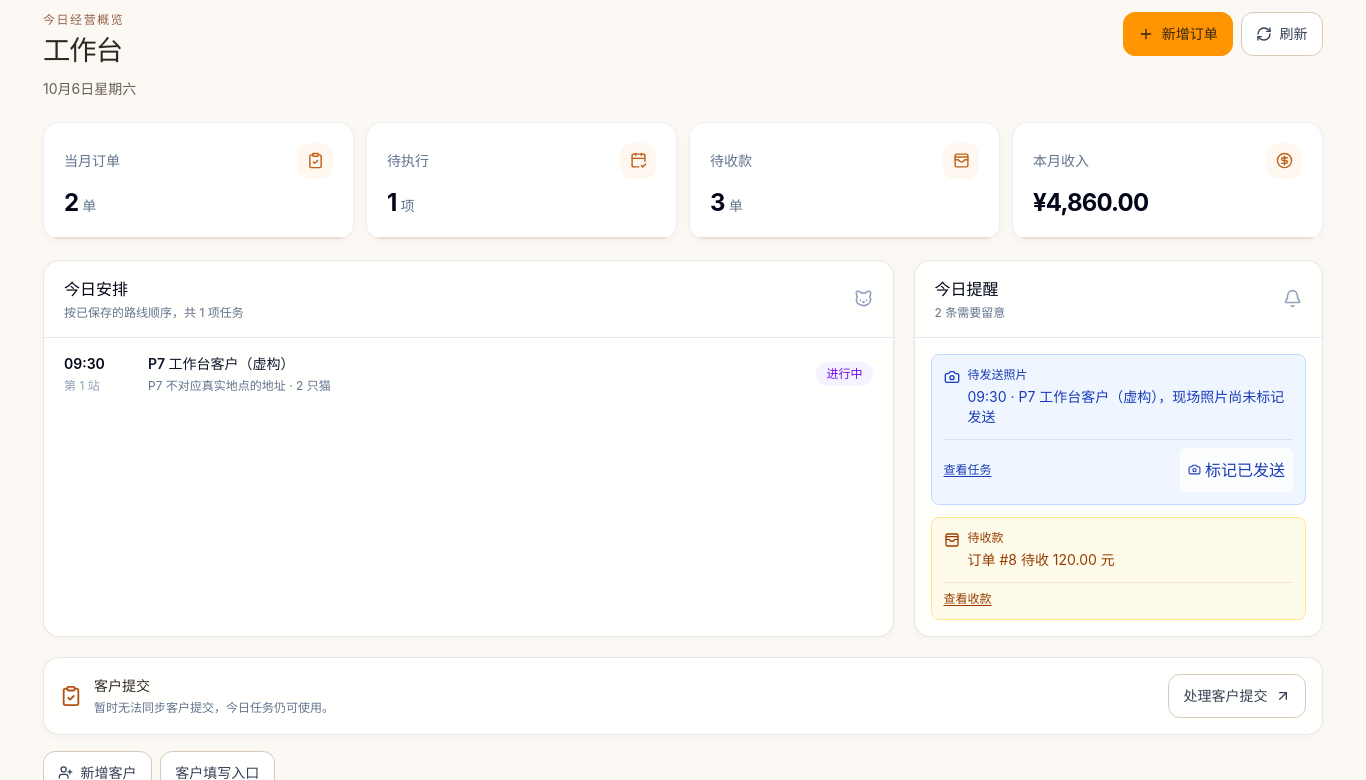
Test: confirms a photo delivery marker and refreshes the dashboard
Click the button "标记已发送" at (1236, 470), box x1=1180 y1=448 x2=1293 y2=492
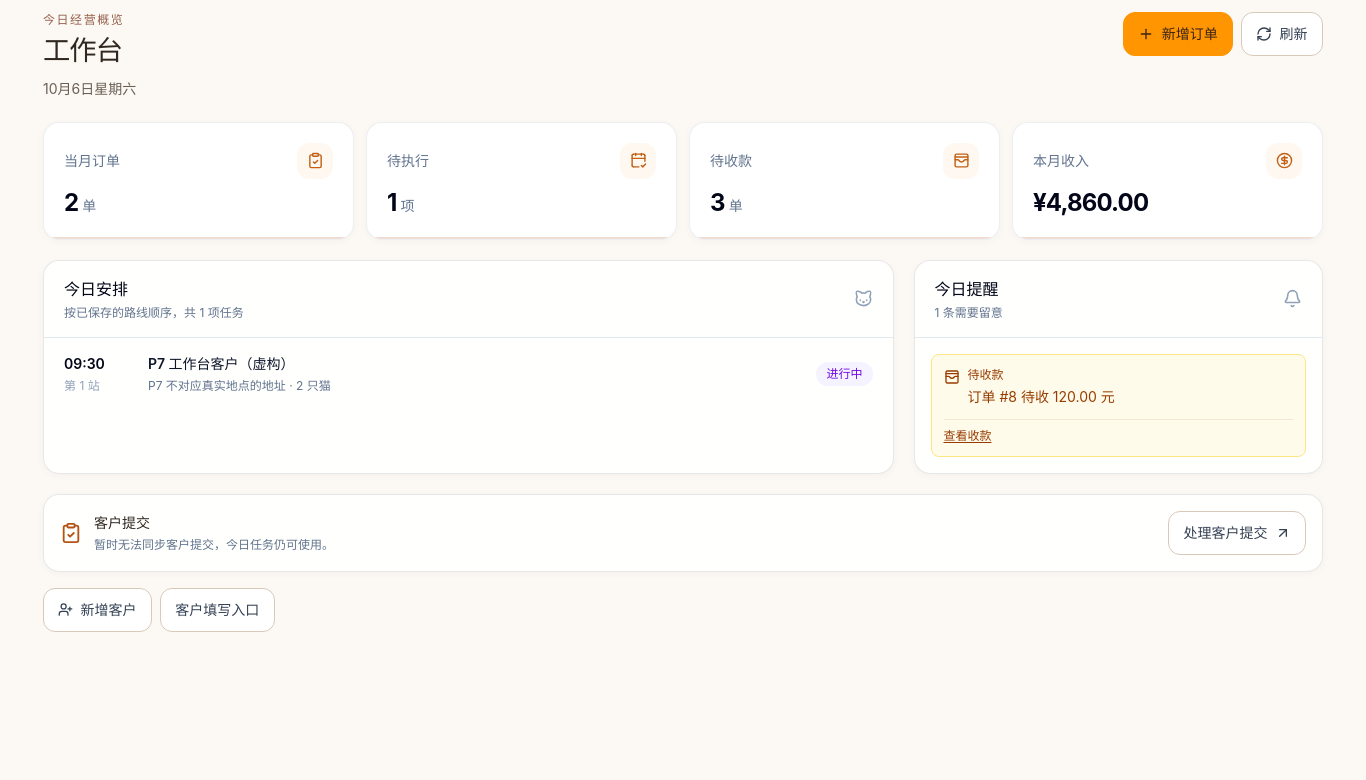
Check: the text "待发送照片" is gone
